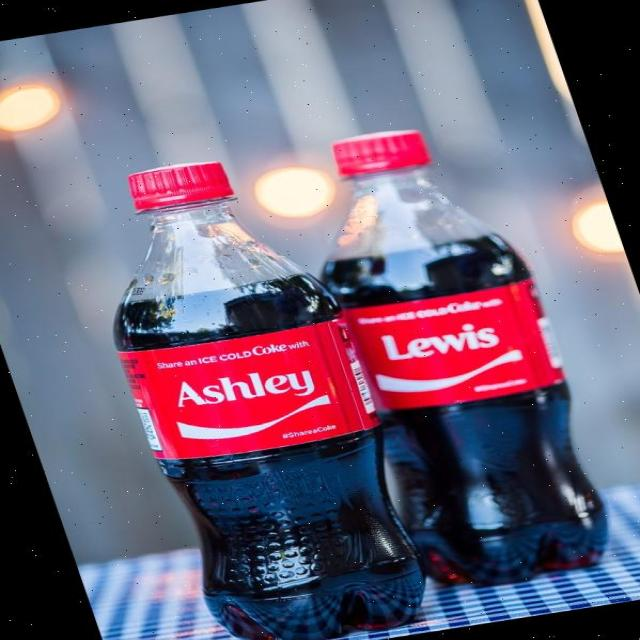coca-cola: (47, 141, 452, 640), (273, 110, 640, 600)
